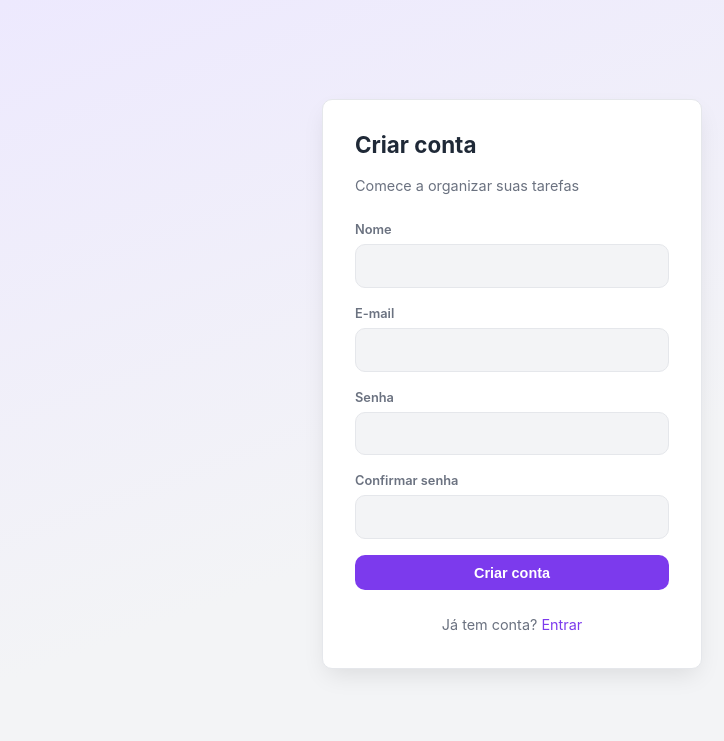
Test: RegisterPage › shows validation errors on submit with empty fields
Click the button with test id "register-submit": (512, 573) [355,555,669,590]
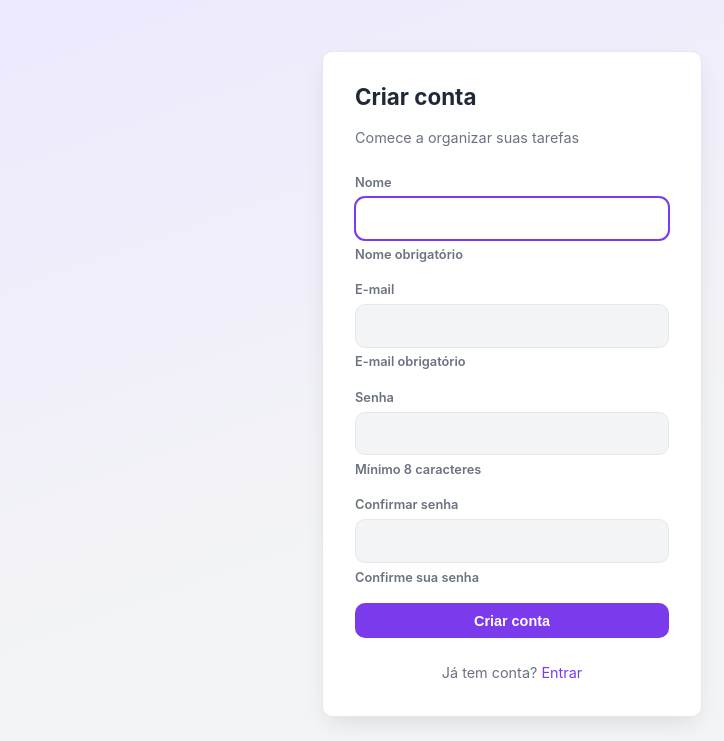
Expected: the text "Nome obrigatório" is shown, [355,247,463,262]
Expected: the text "E-mail obrigatório" is shown, [355,354,466,370]
Expected: the text "Confirme sua senha" is shown, [355,570,479,585]
